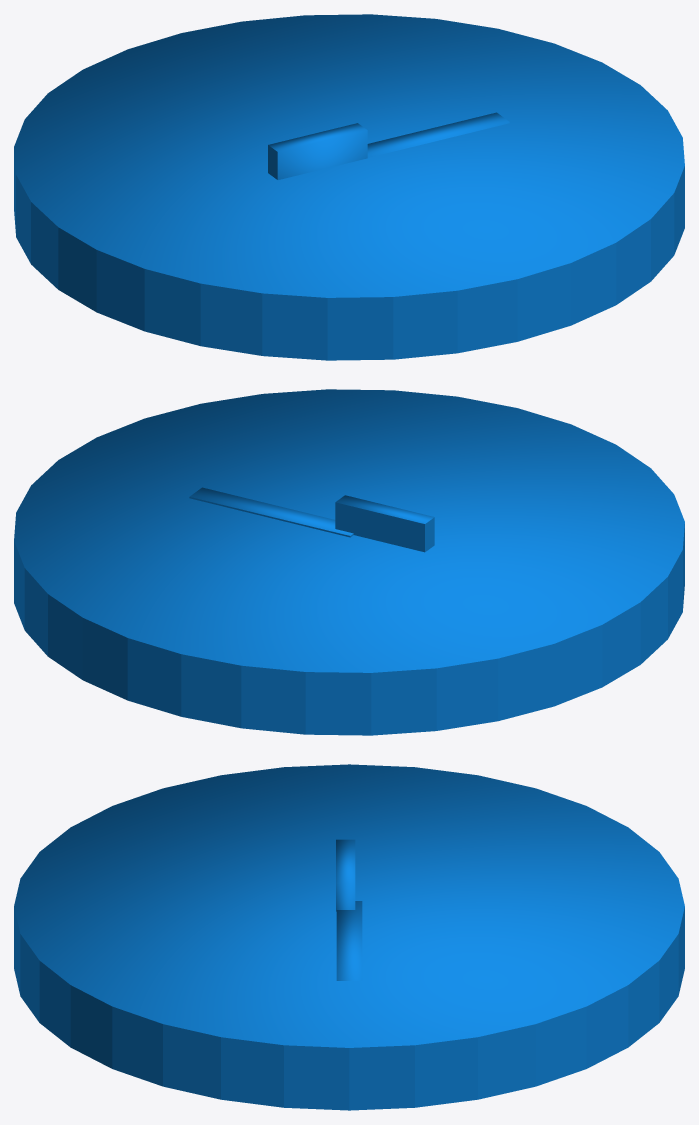
File: ClockFreeze.fbx
3 renders of one model, top to bottom at view 1: azimuth 30°, elevation 25°; view 2: azimuth 150°, elevation 25°; view 3: azimuth 270°, elevation 25°, orthographic.
Parts seen in each view (by area): view 1: clockFreeze; view 2: clockFreeze; view 3: clockFreeze.
Part boxes in pixels (left/top/right/bottom): clockFreeze: left=14, top=14, right=684, bottom=360; clockFreeze: left=14, top=389, right=684, bottom=735; clockFreeze: left=14, top=764, right=684, bottom=1110.
Bounding box in the file's own units: 15.74 × 2.39 × 15.74.
